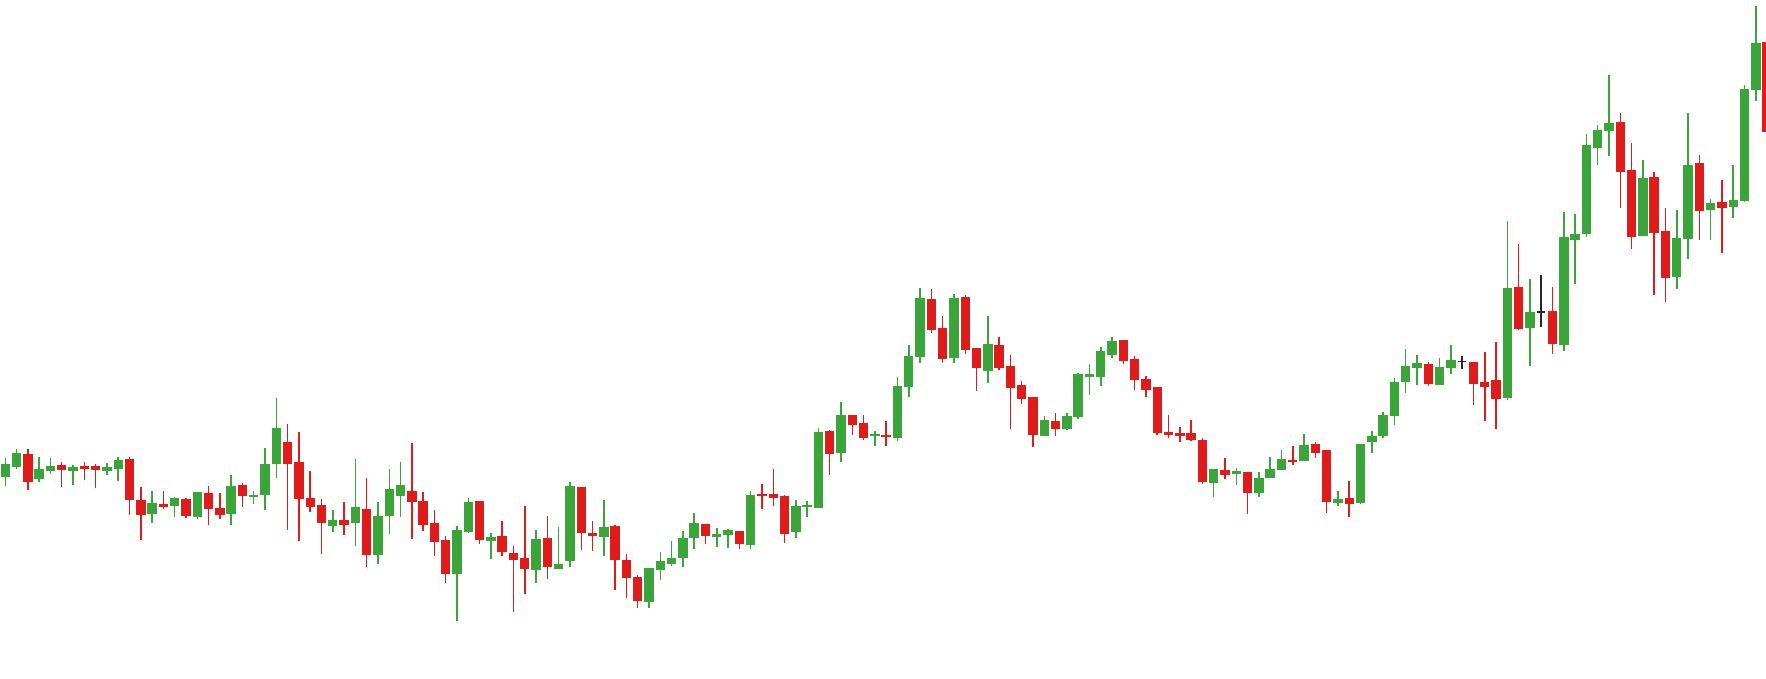buy: (1245, 459, 1345, 526)
